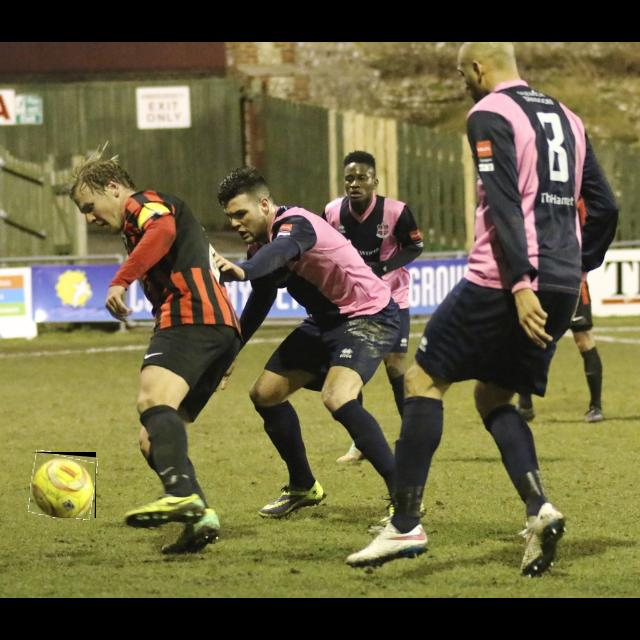Football: (30, 452, 96, 518)
